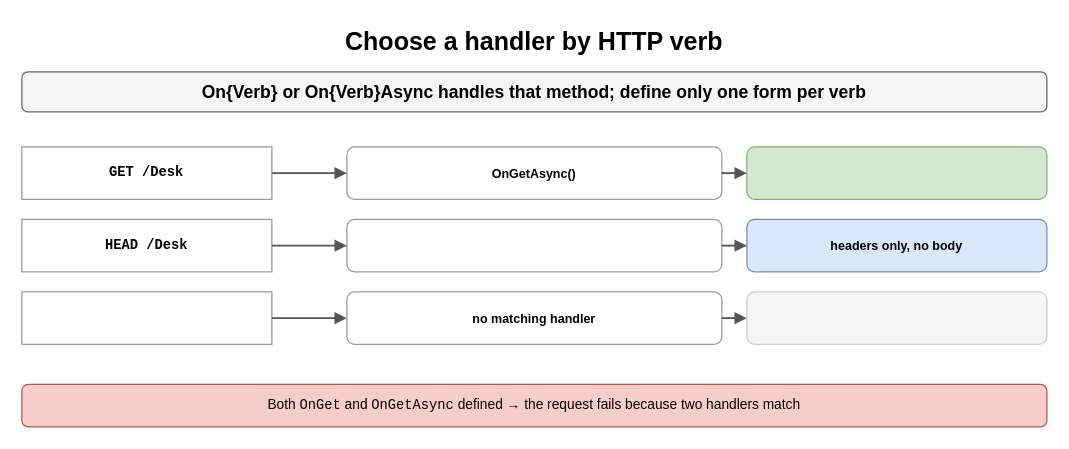
The diagram is 1069 pixels wide and 449 high, and some of its shapes have lost their labels. The centre of each missing label's shape, as x and y in pixels:
"no OnHead → falls back to OnGet(Async)" belongs at [534,245].
"page renders, no page-model code runs" belongs at [896,317].
"POST /Desk" belongs at [146,317].
"rendered greeting" belongs at [896,172].
